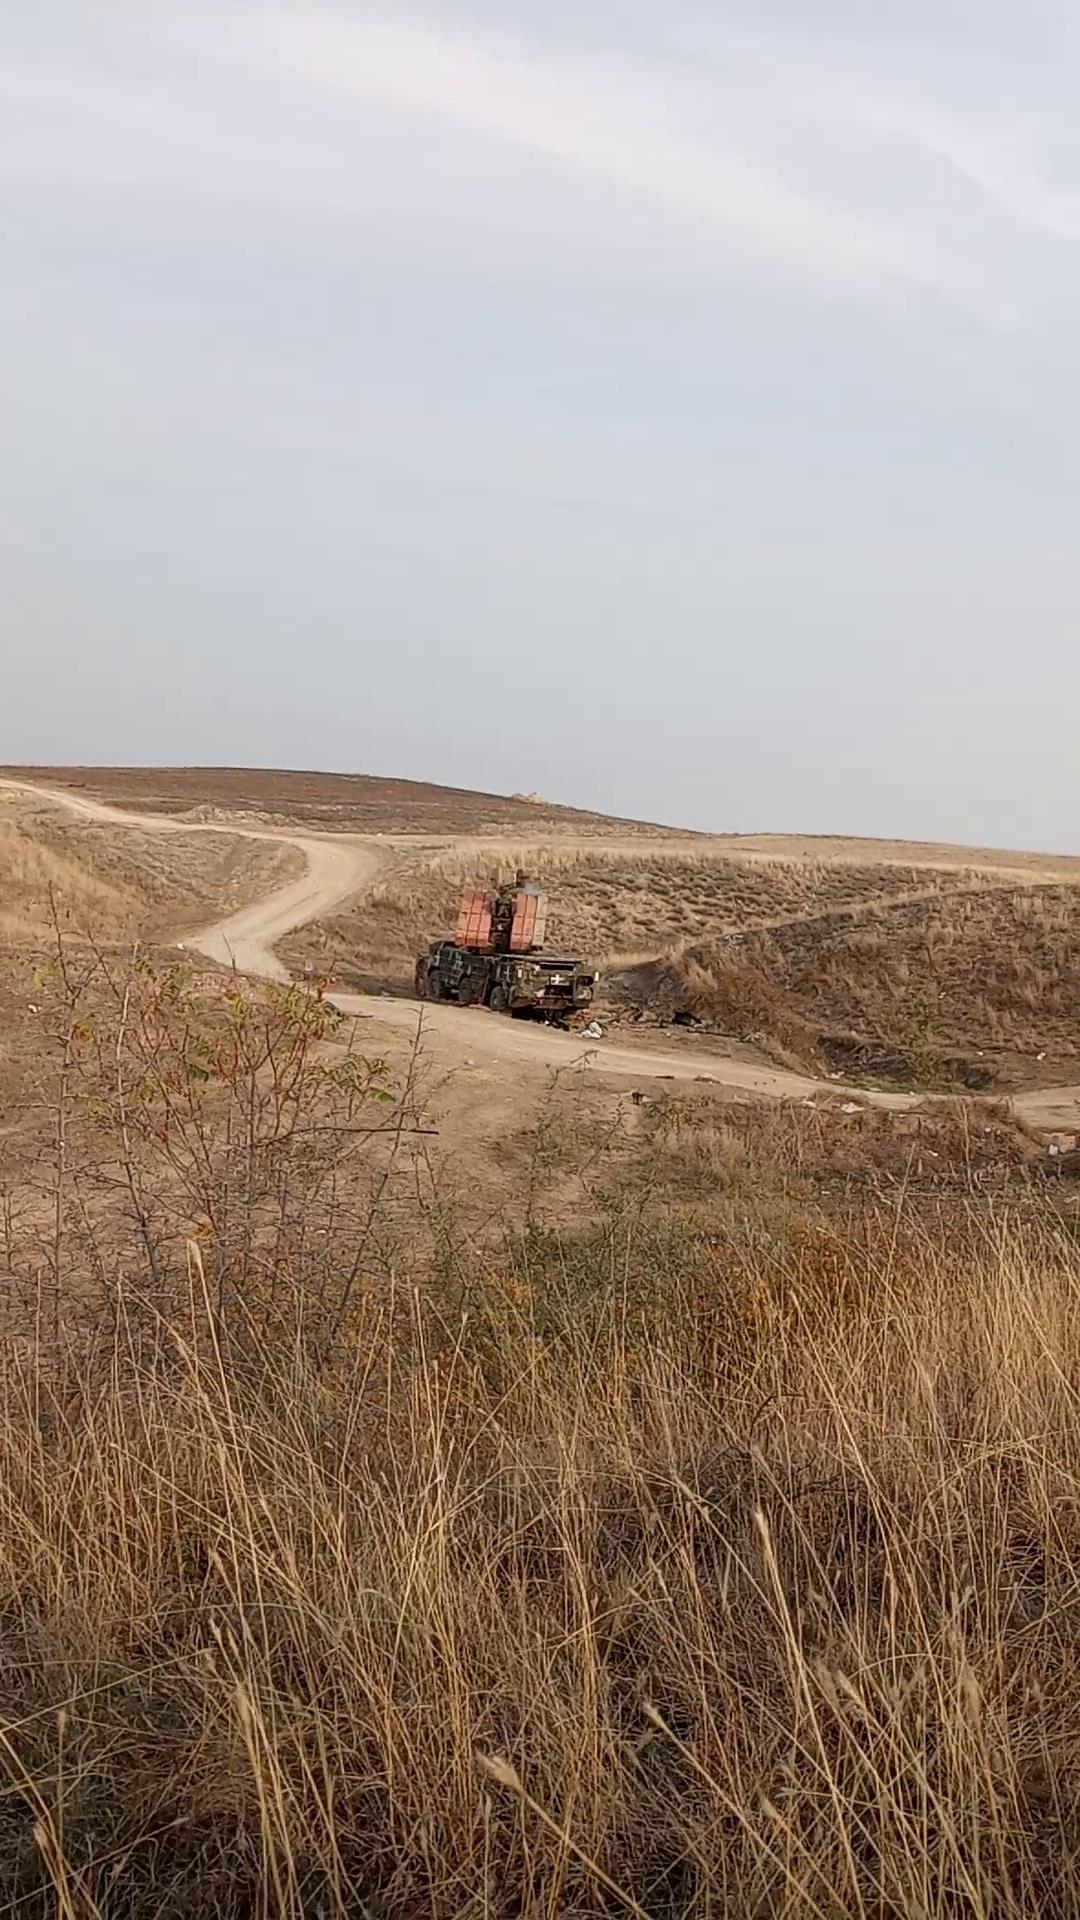MIL_SAM_TEL: (372, 856, 615, 1062)
